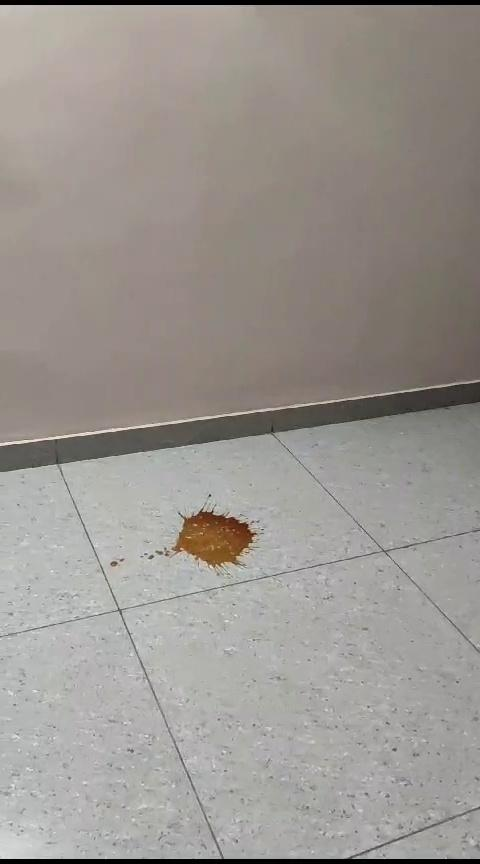dirty_floor: (114, 498, 265, 578)
